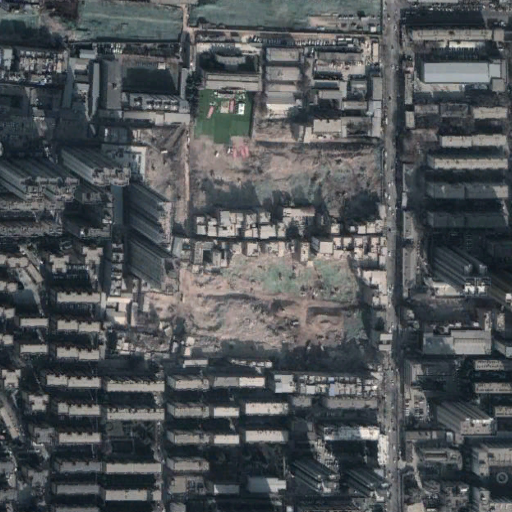cw: (132, 250, 379, 372), (134, 124, 381, 221), (191, 4, 381, 35), (78, 5, 182, 42)
